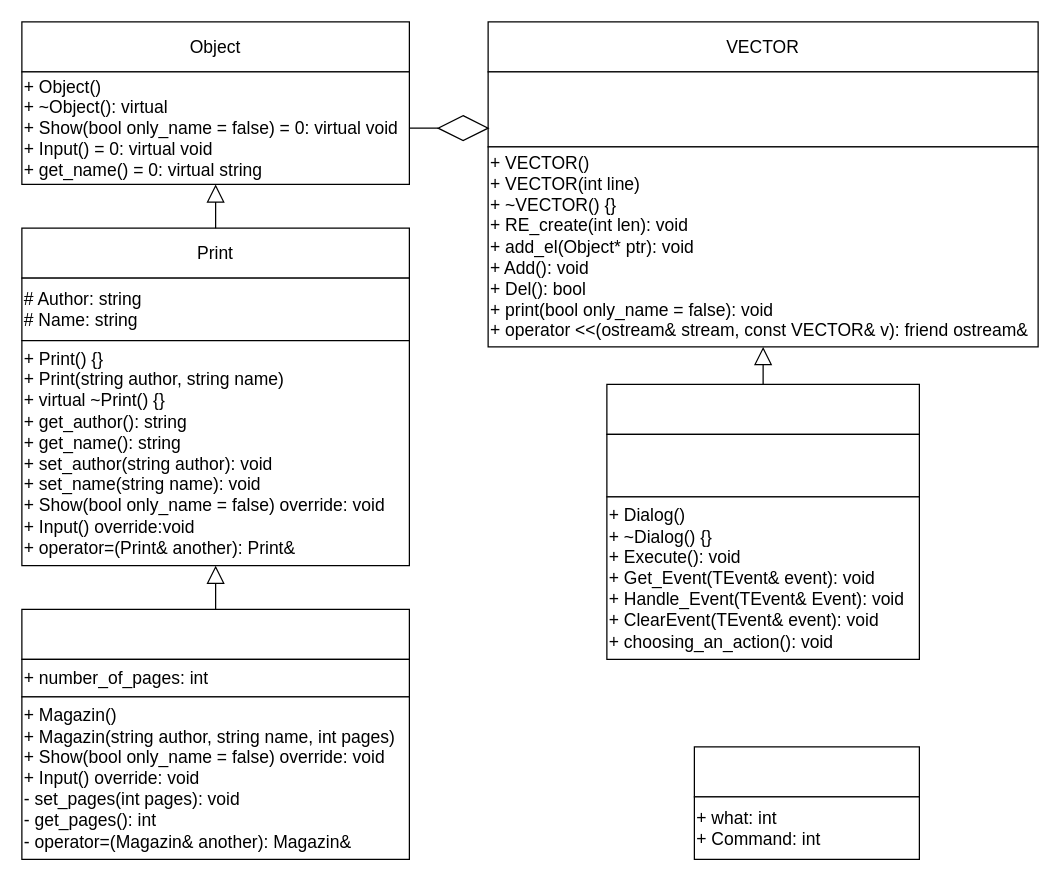
The diagram is 1060 pixels wide and 881 high, and some of its shapes have lost their labels. Here are the shapes that lost their labels. From the top down, the box of each, then its label:
(487, 71, 1038, 147): - beg: Object** - size: int - current: int
(606, 383, 919, 434): Dialog
(606, 433, 919, 497): - end_of_work: bool # End_State: bool
(21, 608, 409, 659): Magazin
(693, 746, 919, 797): TEvent
